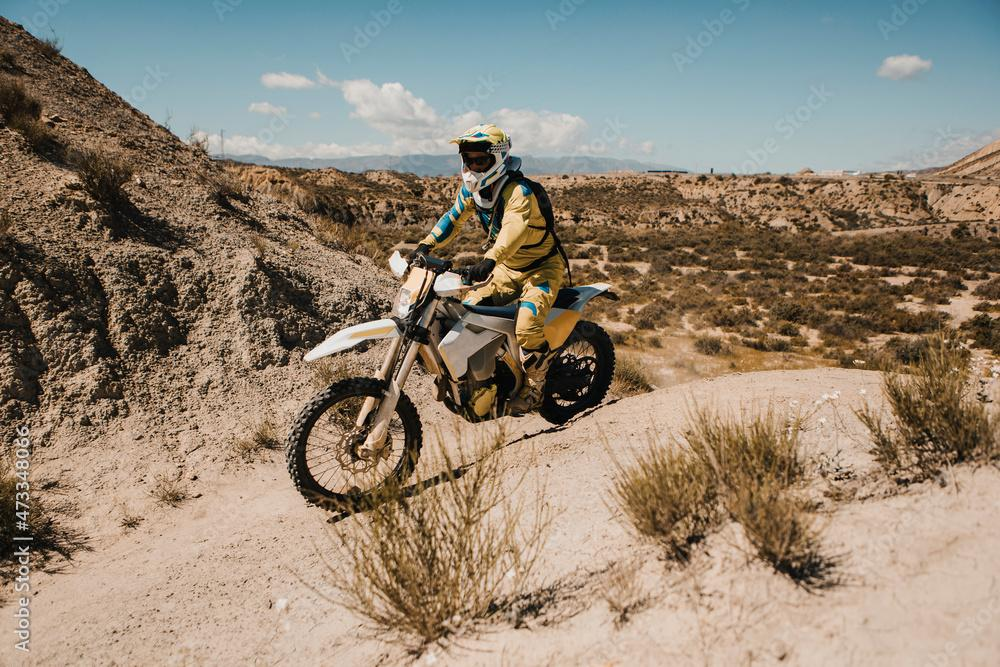helmet: (448, 123, 513, 193)
